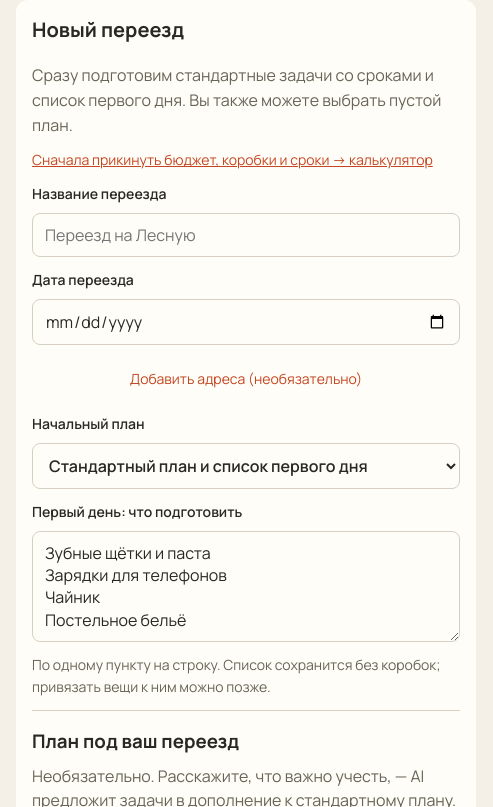
Test: создание проекта › ошибка сервера показывается, проект не запоминается
The image size is (493, 807).
Type "Переезд" into the field labelled "Название переезда" at (246, 235), box [32,213,460,257]
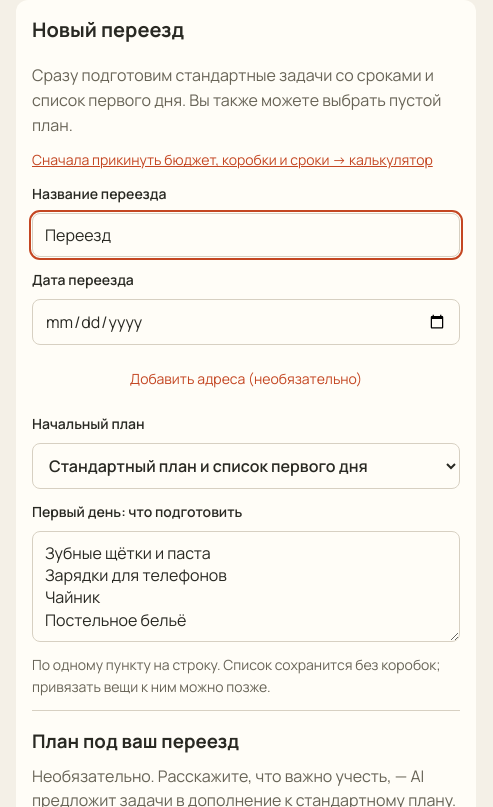
Type "2026-11-01" into the date field labelled "Дата переезда" at (246, 322), box [32,299,460,345]
(page scrolled)
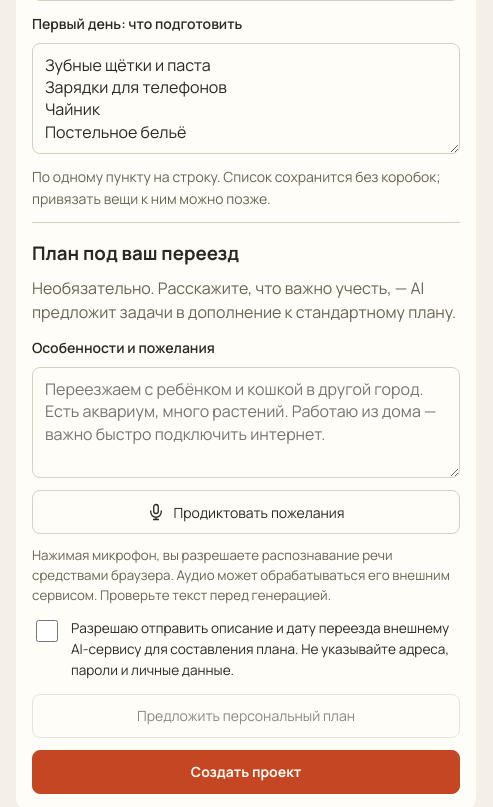
Click the button "Создать проект" at (246, 772), box [32,750,460,794]
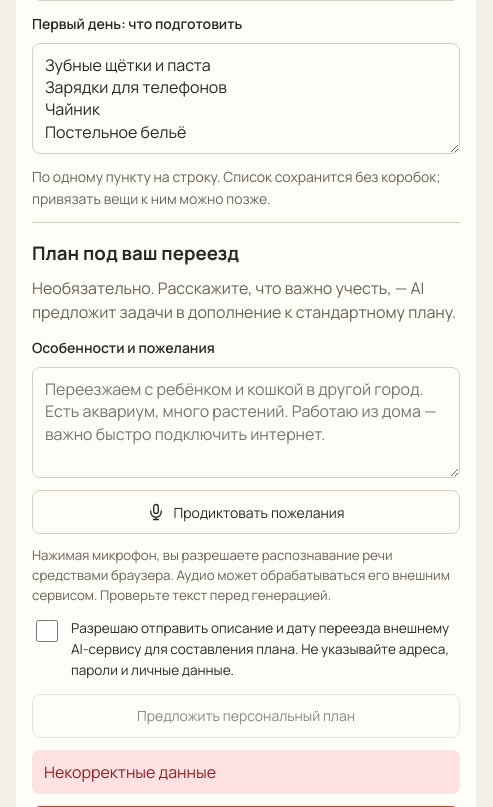
Expected: the message reads "Некорректные данные", [44,760,216,782]
